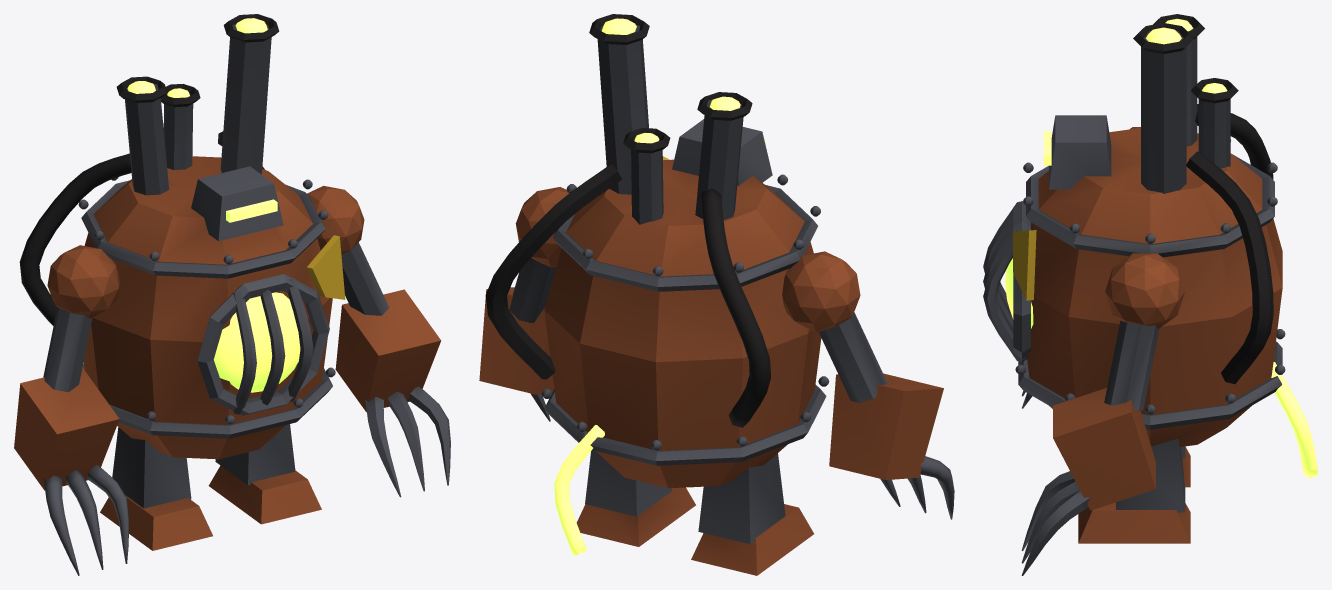
Rendered from rust_core.glb.
3 renders of one model, left to right at view 1: azimuth 30°, elevation 25°; view 2: azimuth 150°, elevation 25°; view 3: azimuth 270°, elevation 25°, orthographic. The views are drawn at different scales.
Parts seen in each view (by area): view 1: body; view 2: body; view 3: body.
Part boxes in pixels (box(x1,y1,x2,y2)): body: box(14, 14, 450, 575); body: box(479, 14, 954, 575); body: box(983, 14, 1317, 575).
Bounding box in the file's own units: 1.83 × 2.05 × 1.25.
